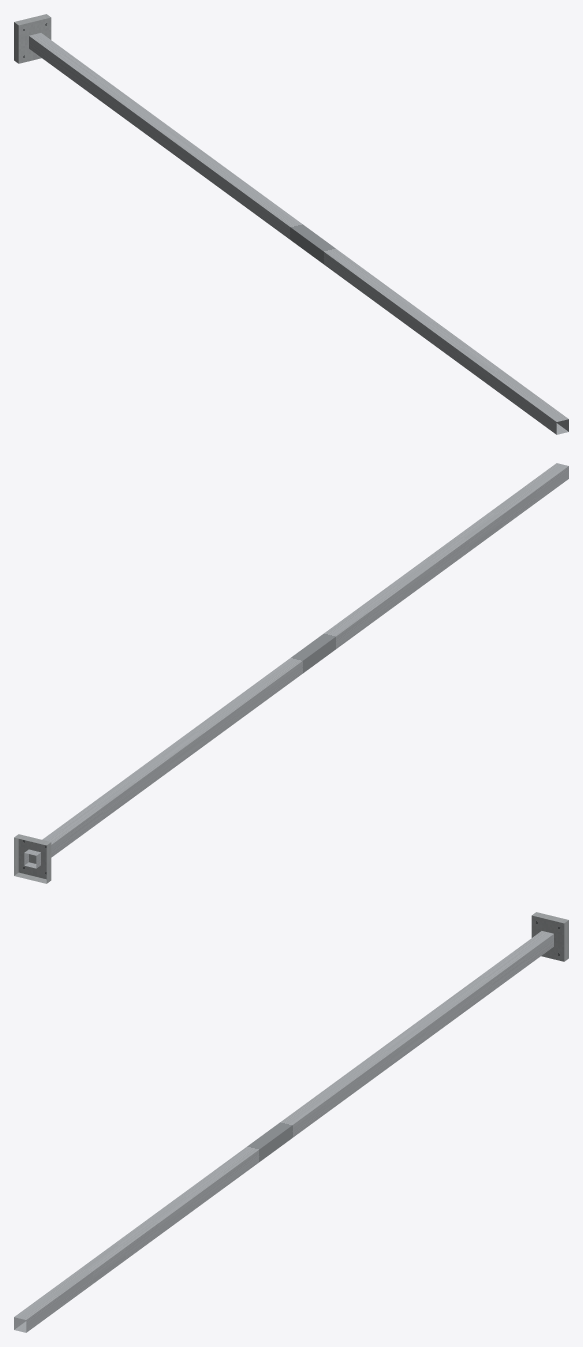
Rendered from opener_rail_7.obj.
The picture shows the model from 3 angles, top to bottom: view 1: azimuth 30°, elevation 25°; view 2: azimuth 150°, elevation 25°; view 3: azimuth 330°, elevation 25°; orthographic projection.
Parts seen in each view (by area): view 1: rail; view 2: rail; view 3: rail.
Boxes of the visible parts, box(x1,y1,x2,y2) form: rail: box(14, 14, 568, 434); rail: box(14, 463, 568, 883); rail: box(14, 912, 568, 1332).
Bounding box in the file's own units: 0.25 × 0.2812 × 7.06.
